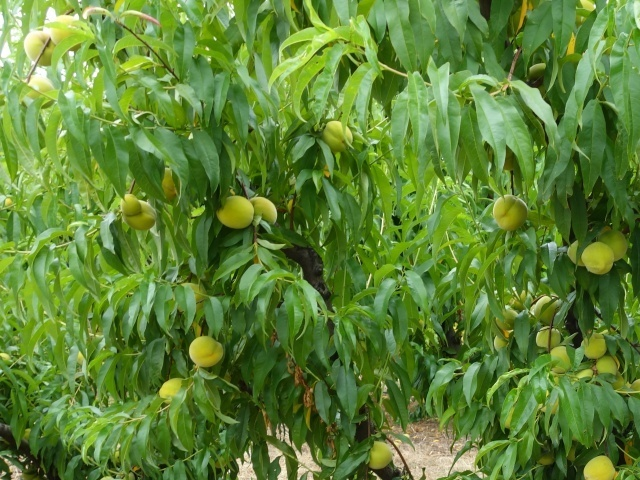peach: (19, 28, 61, 70), (490, 189, 530, 233), (186, 333, 228, 371), (214, 193, 255, 231), (45, 13, 81, 53), (580, 239, 616, 277), (318, 119, 355, 154), (246, 194, 280, 229), (124, 199, 160, 232), (363, 437, 396, 472), (597, 224, 630, 259), (534, 288, 563, 325), (580, 451, 617, 480), (156, 376, 186, 409), (531, 324, 563, 354), (579, 330, 609, 360), (563, 237, 592, 267), (548, 343, 575, 375), (591, 351, 619, 381), (119, 190, 143, 221), (493, 307, 520, 333), (491, 330, 513, 353)
